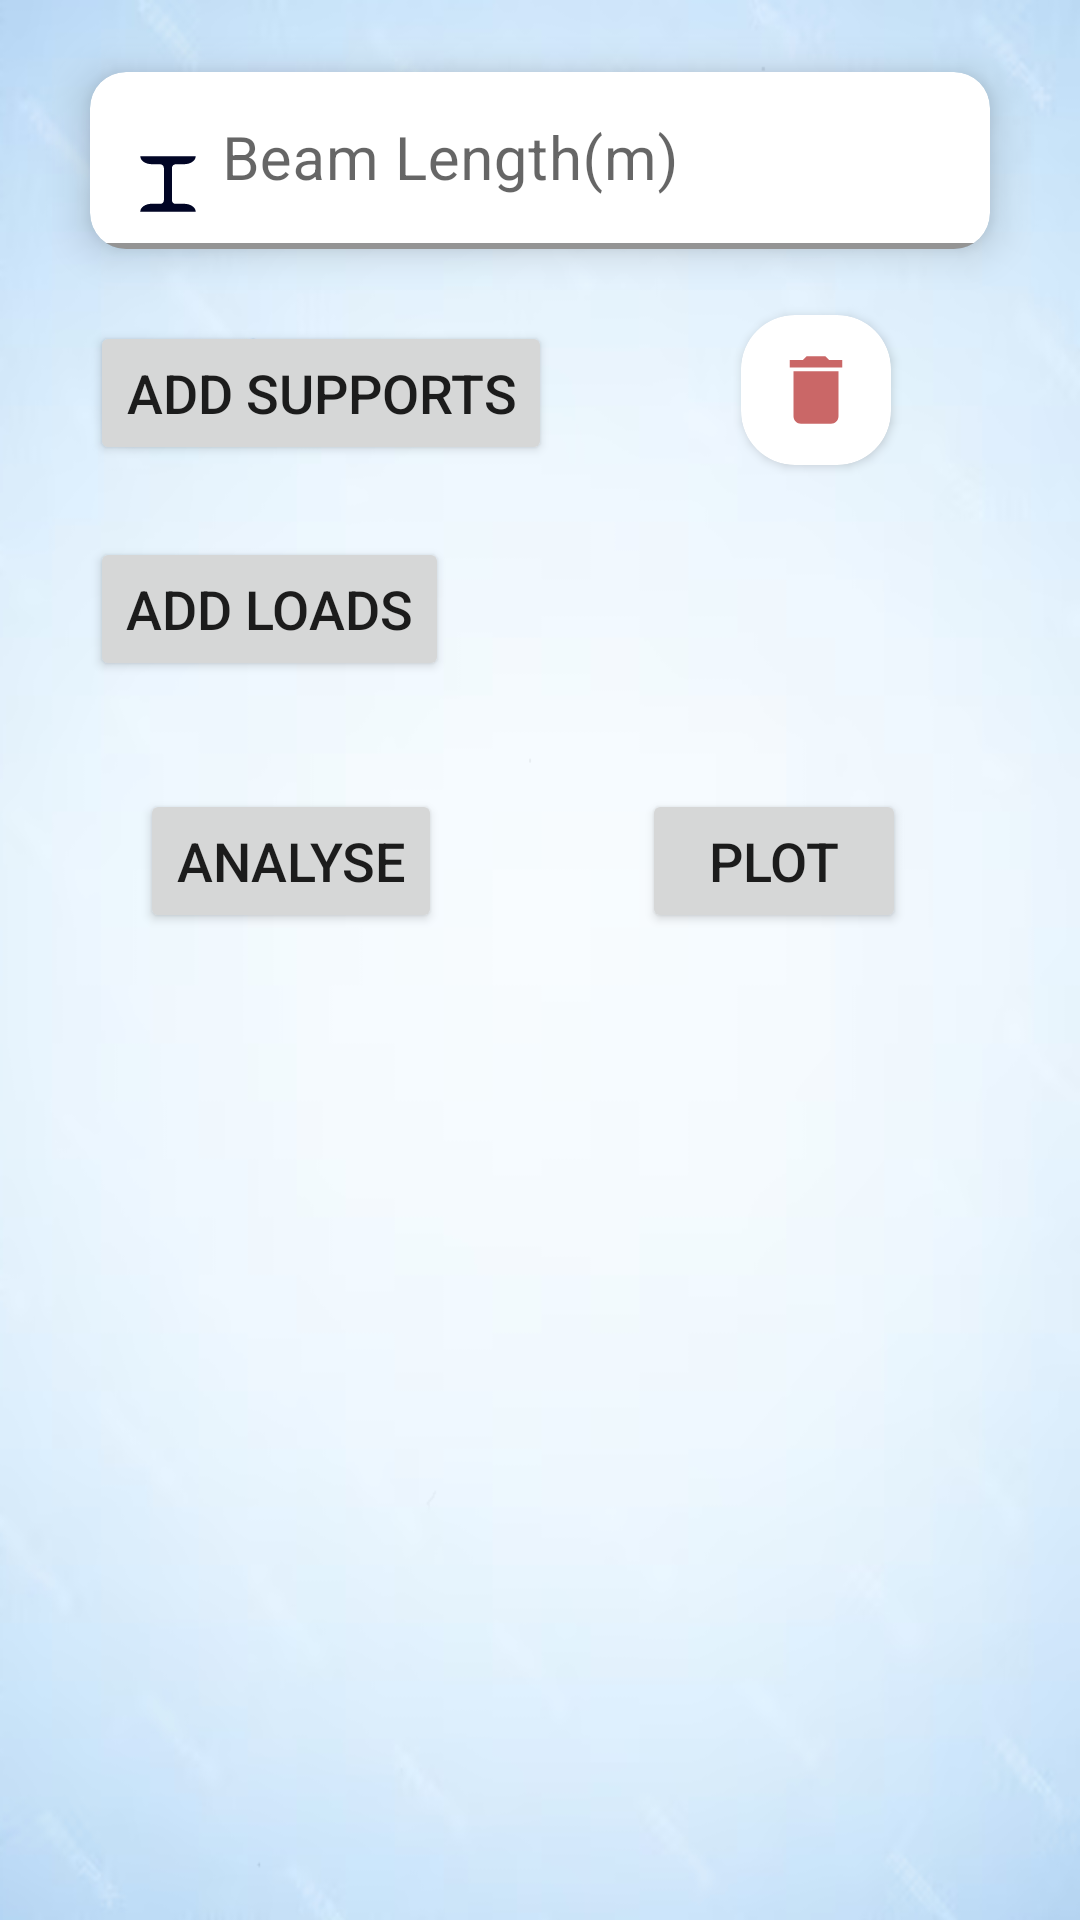

Locate icon controls on the screen. Image size 1080 × 1920, boxes as Rect(x1, y1, x2, y2).
delete all: Rect(741, 315, 891, 465)
